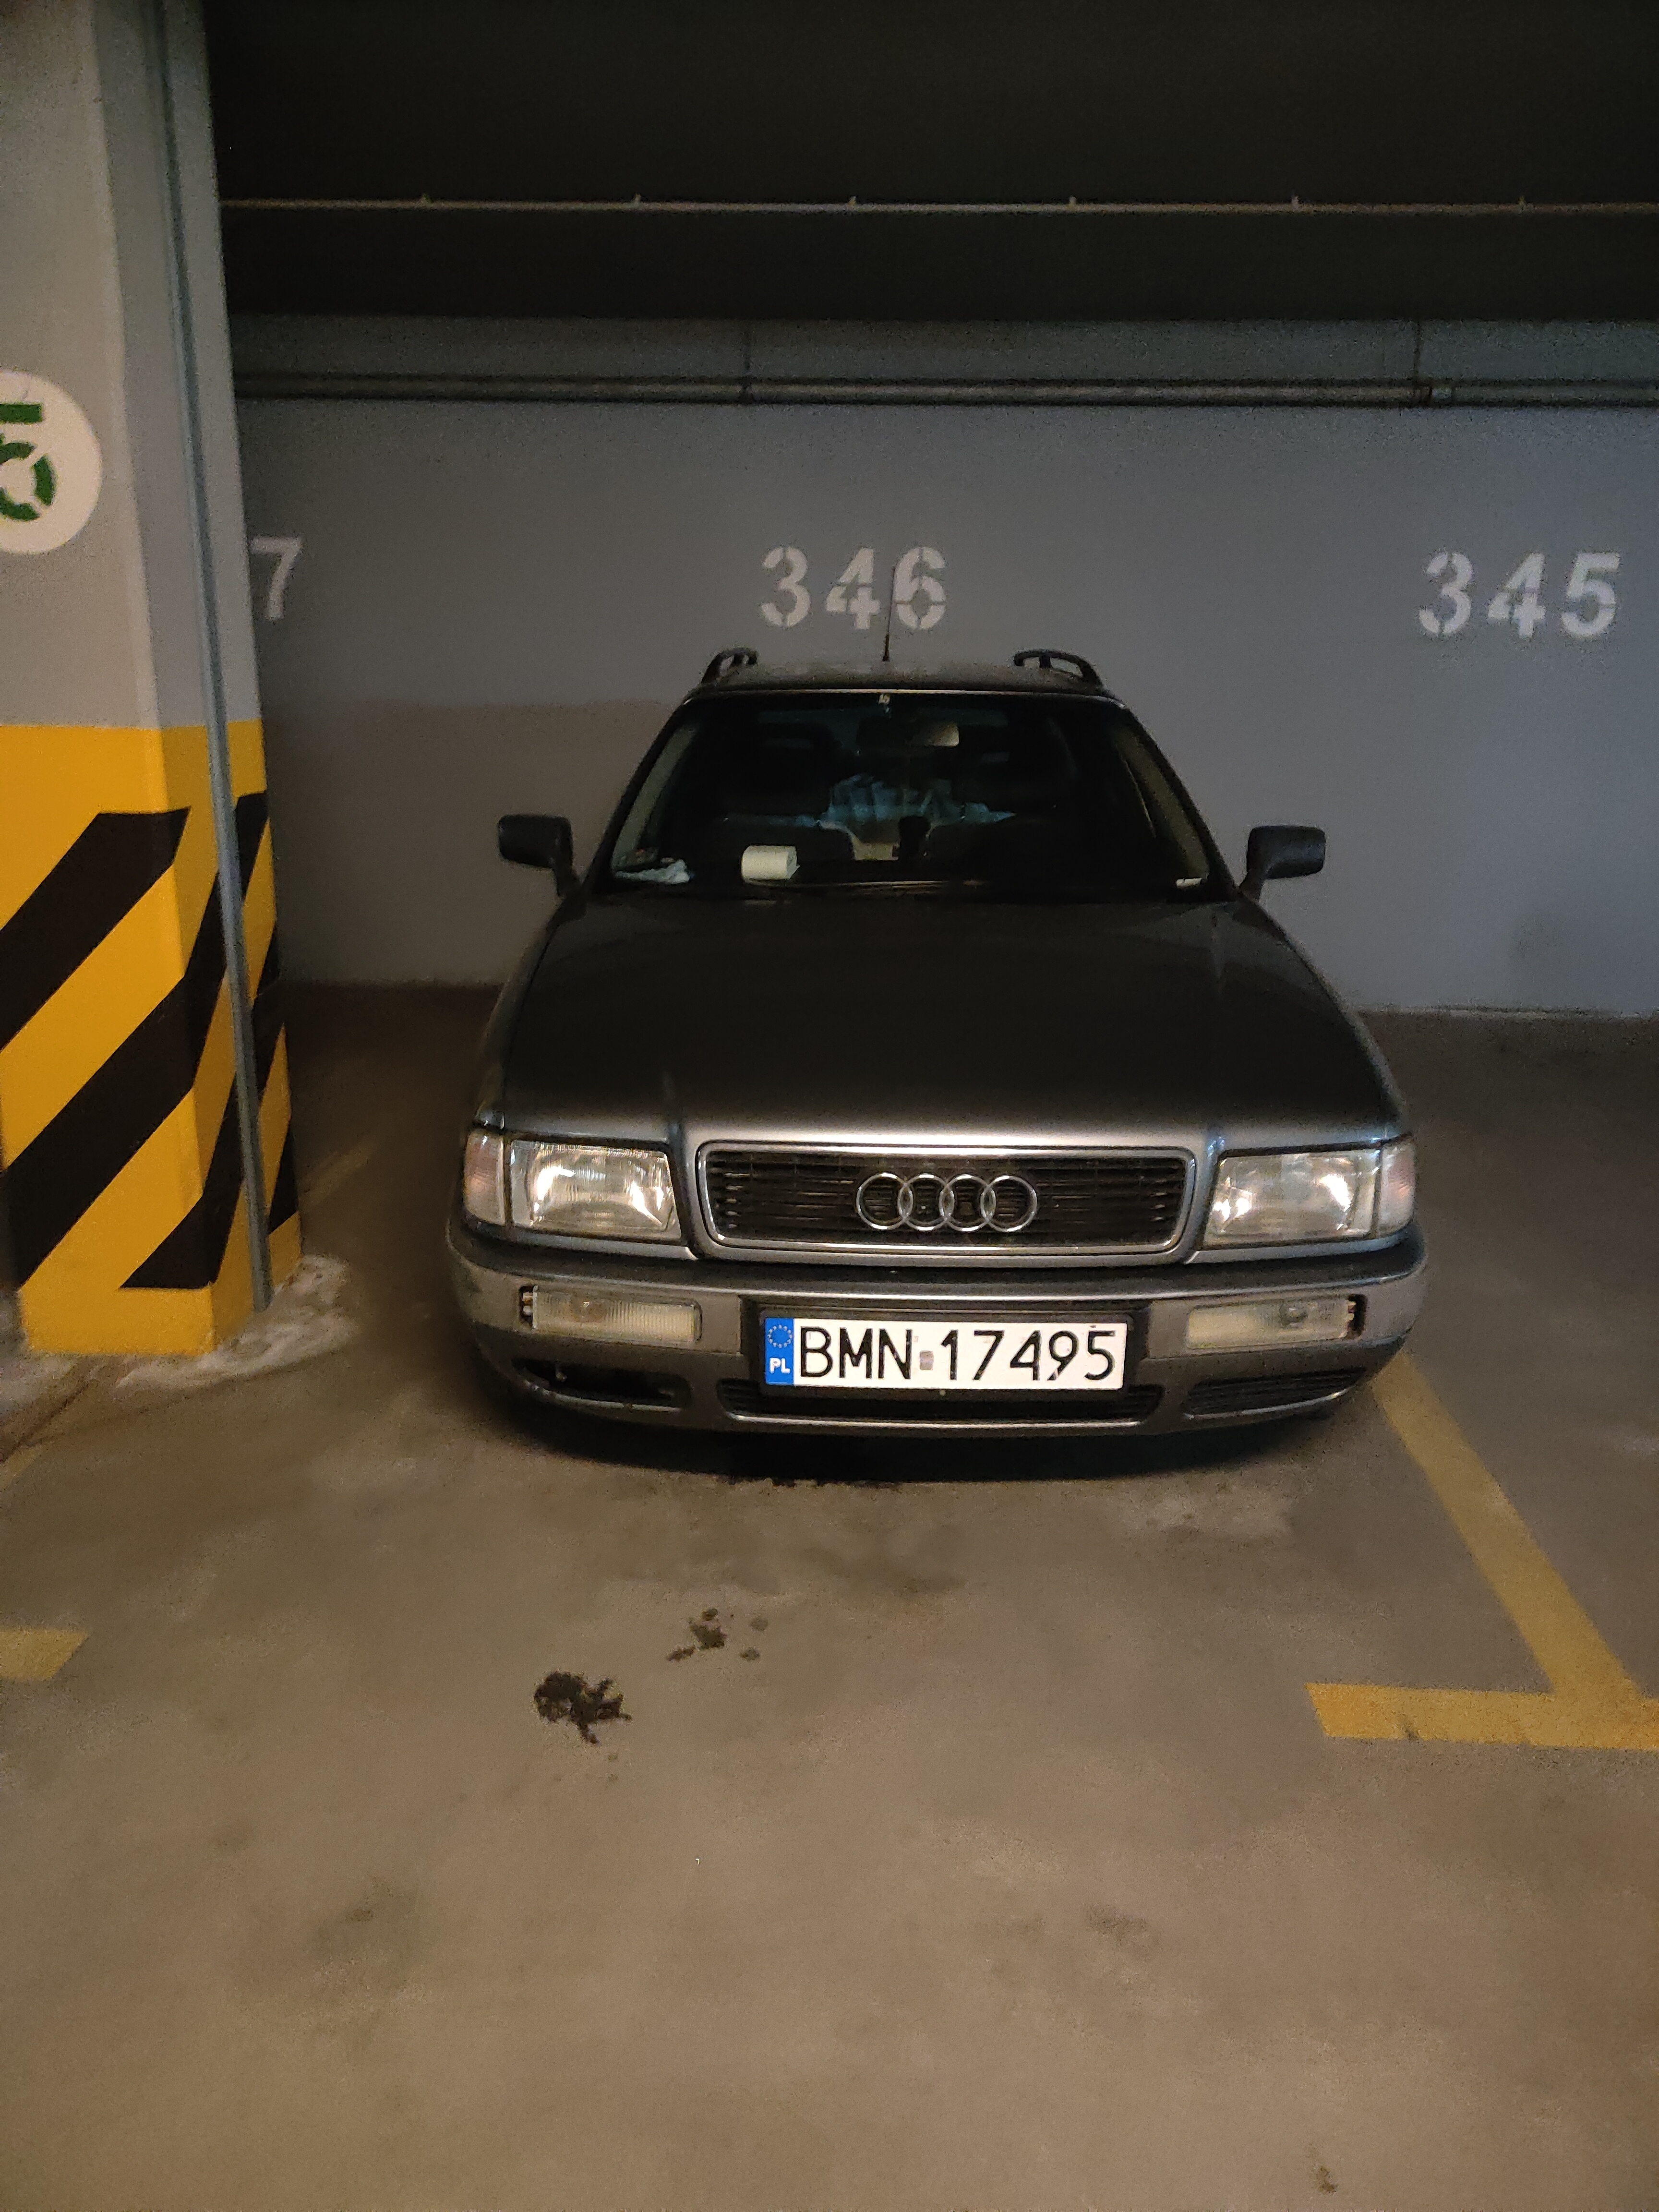number_plate: (762, 1305, 1134, 1406)
